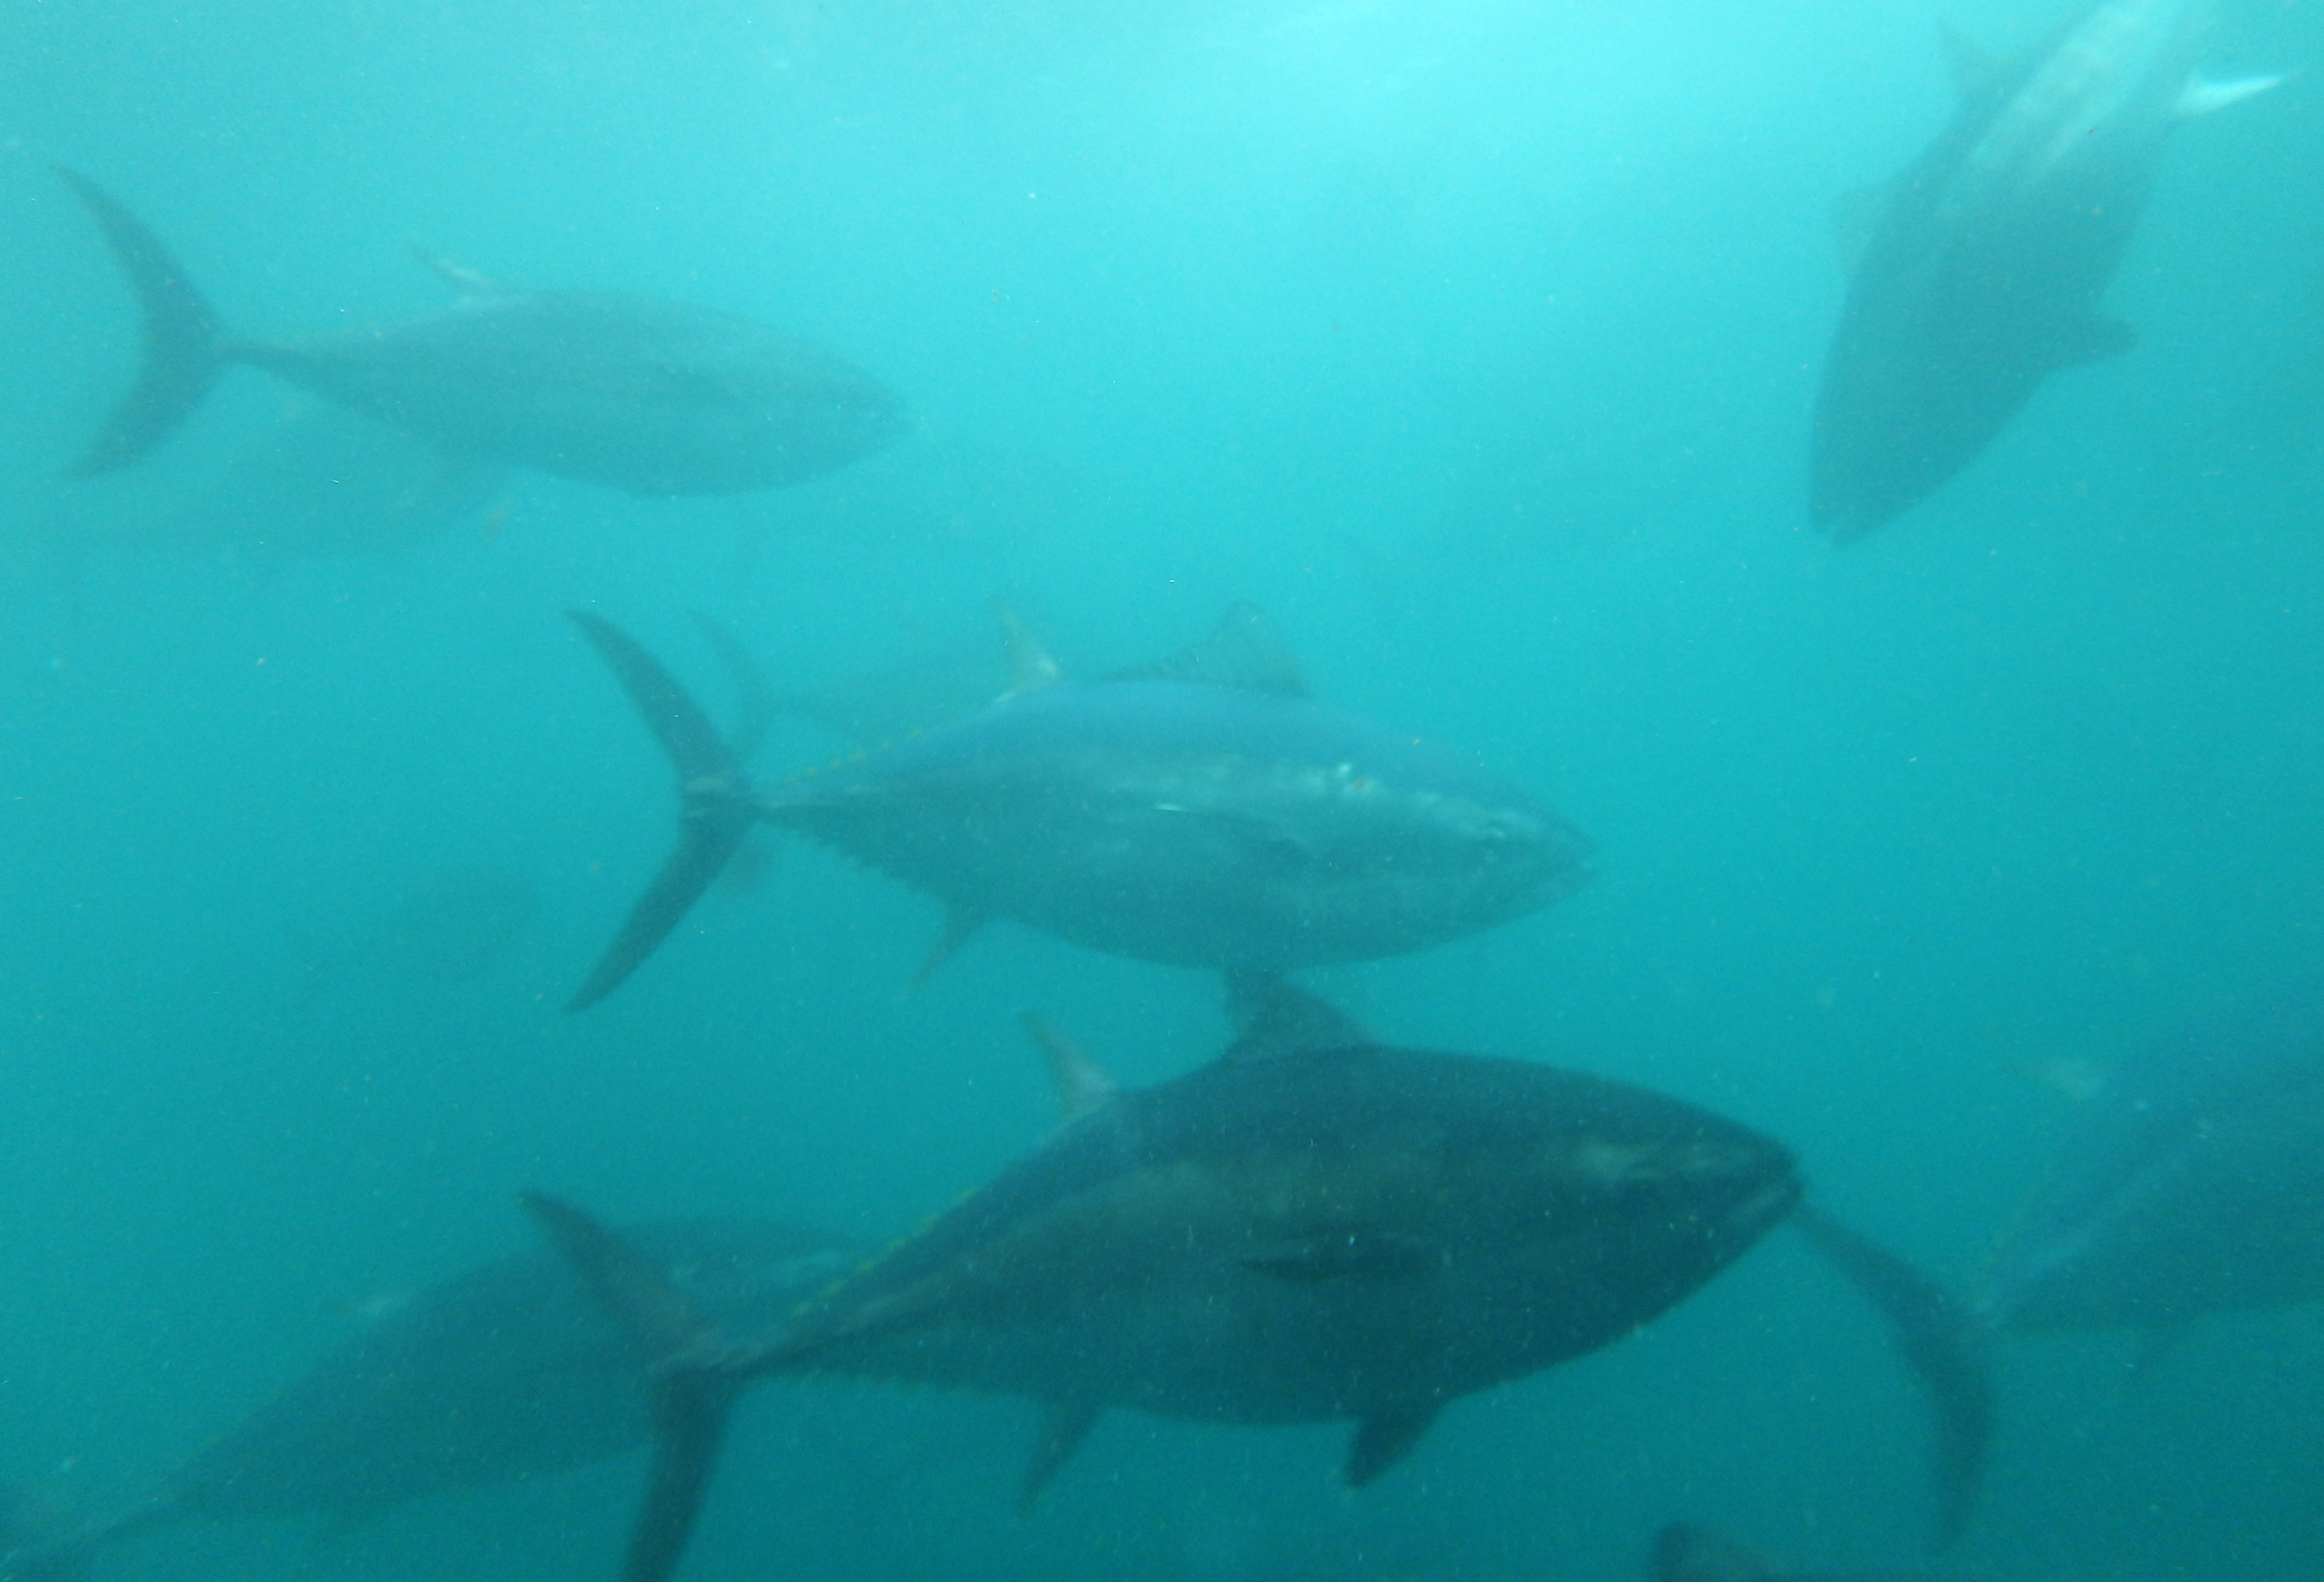Bluefina Tuna: (510, 991, 1828, 1552), (540, 583, 1653, 1026)
